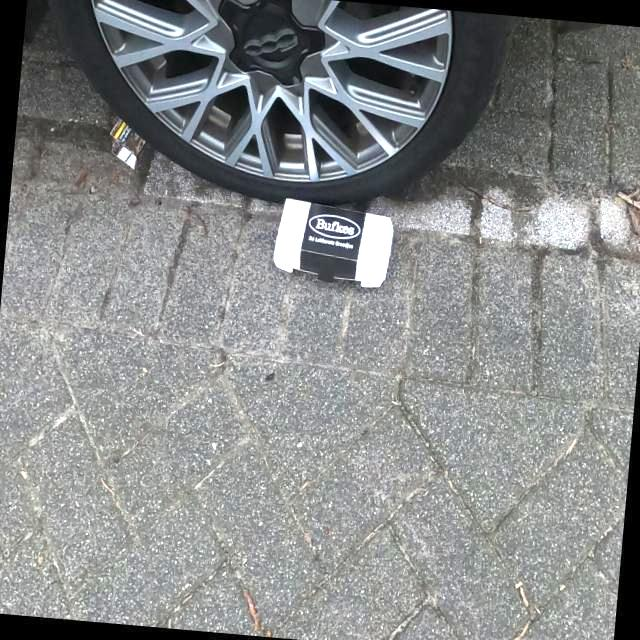Paper: (272, 196, 396, 290), (105, 115, 151, 171)
